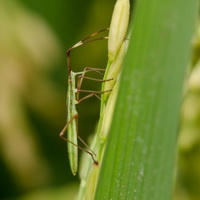insect: (59, 28, 112, 175)
